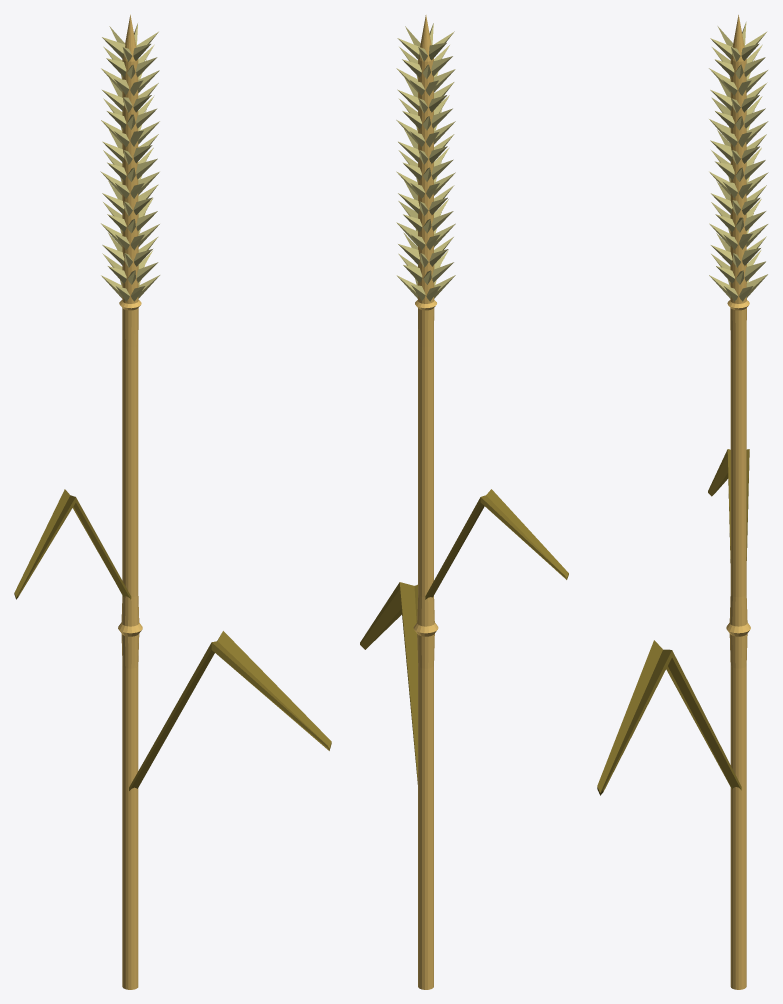
The model's file is SM_Wheat.fbx.
3 views of the same model, side by side, from view 1: azimuth 30°, elevation 25°; view 2: azimuth 150°, elevation 25°; view 3: azimuth 270°, elevation 25° (orthographic).
Visible parts, largest first — view 1: Wheat; view 2: Wheat; view 3: Wheat.
Part boxes in pixels (box(x1,y1,x2,y2)): Wheat: box(14, 14, 331, 989); Wheat: box(360, 15, 568, 989); Wheat: box(597, 15, 768, 989).
Bounding box in the file's own units: 97.89 × 349 × 55.74.
